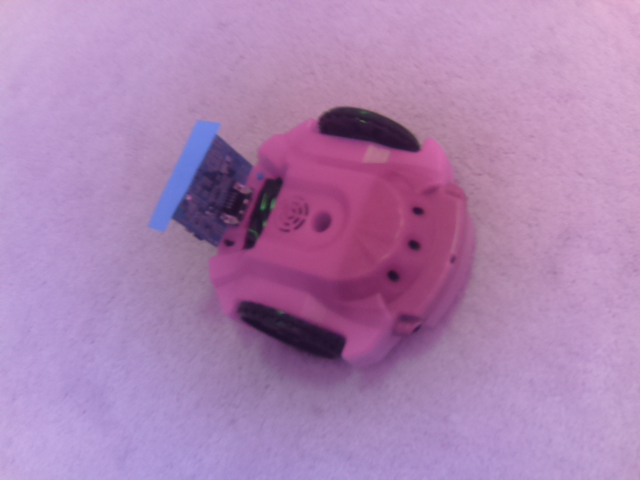board: (146, 123, 270, 250)
chassis: (148, 95, 484, 376)
